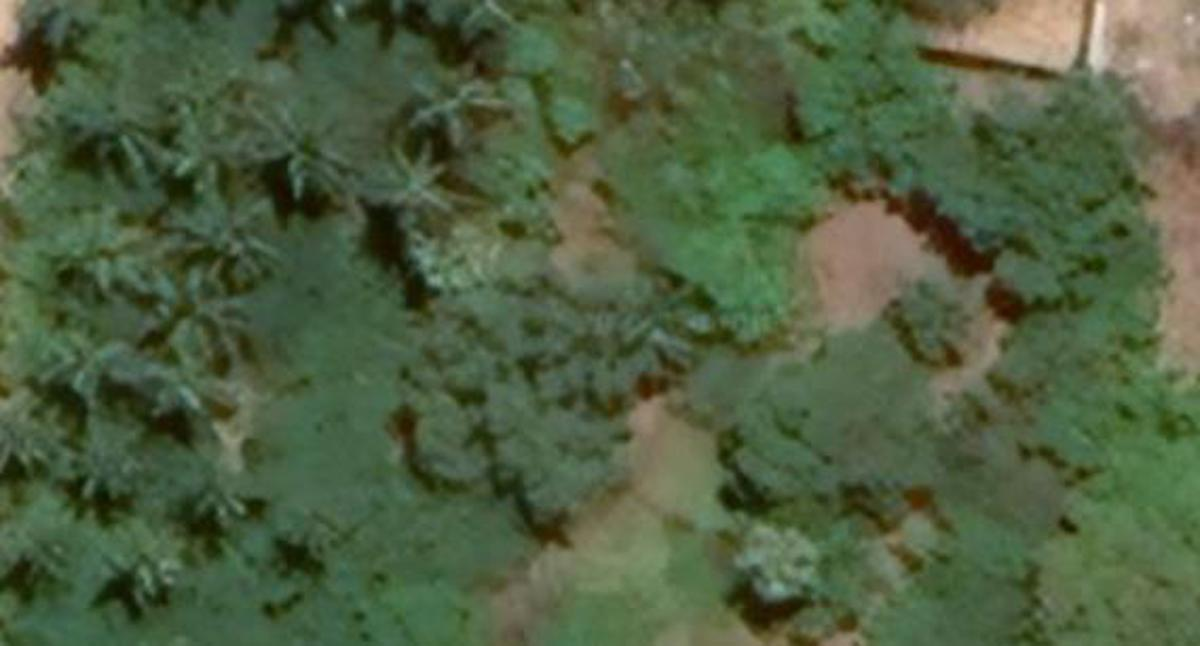coconut: (169, 185, 283, 304), (135, 331, 234, 437), (152, 95, 249, 198), (52, 204, 145, 304), (359, 145, 456, 238), (261, 111, 357, 204), (63, 82, 154, 175), (405, 69, 502, 156), (38, 318, 128, 403), (97, 536, 185, 622), (185, 453, 264, 548), (54, 430, 135, 515), (0, 394, 61, 481), (0, 527, 71, 597)
